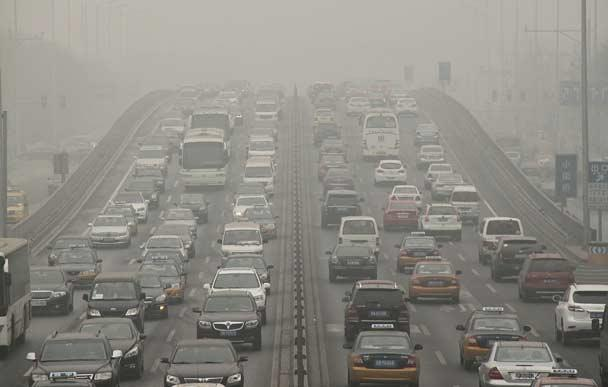bus: (175, 139, 231, 189), (190, 109, 232, 158), (361, 113, 402, 161)
car: (23, 329, 121, 387), (340, 322, 426, 387), (456, 304, 535, 370), (340, 277, 412, 348), (72, 315, 147, 381), (156, 339, 250, 387), (81, 269, 145, 339), (475, 339, 566, 387), (192, 290, 263, 349), (200, 265, 272, 320), (550, 280, 608, 344), (517, 250, 578, 304), (16, 264, 76, 317), (111, 269, 169, 321), (407, 254, 462, 305), (490, 233, 545, 283), (130, 260, 186, 307), (476, 216, 527, 267), (215, 253, 274, 295), (50, 246, 104, 290), (324, 241, 379, 284), (394, 229, 443, 276), (335, 213, 382, 260), (216, 221, 264, 262), (319, 188, 365, 229), (47, 235, 99, 271), (149, 219, 195, 259), (420, 200, 463, 241), (86, 213, 132, 251), (139, 233, 185, 271), (235, 207, 280, 241), (98, 203, 139, 237), (382, 196, 423, 230), (243, 154, 277, 194), (108, 189, 150, 221), (444, 186, 479, 224), (122, 176, 162, 209), (160, 206, 200, 239), (131, 145, 168, 178), (173, 192, 209, 225), (231, 181, 270, 211), (385, 184, 423, 212), (321, 167, 355, 198), (231, 196, 271, 222), (430, 172, 465, 200), (373, 157, 408, 184), (415, 143, 447, 170), (316, 154, 350, 179), (423, 160, 454, 187), (247, 135, 278, 162), (133, 169, 167, 193), (317, 135, 348, 161), (412, 119, 440, 146), (142, 137, 172, 161), (153, 129, 182, 152), (312, 120, 342, 141), (158, 116, 185, 138), (345, 97, 371, 116), (393, 98, 419, 116), (311, 107, 335, 124), (388, 88, 410, 103), (366, 91, 386, 106)
